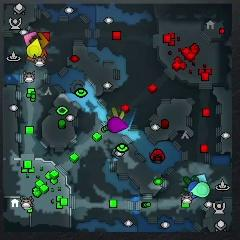p1: (188, 181, 200, 201)
p2: (190, 182, 210, 197)
p3: (109, 116, 127, 132)
p4: (26, 39, 42, 58)
p5: (26, 48, 48, 63)
x1: (24, 31, 37, 45)
x2: (107, 106, 125, 120)
x3: (196, 173, 208, 183)
x4: (183, 176, 198, 191)
x5: (36, 31, 48, 50)
